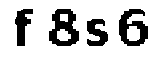6: (116, 4, 151, 49)
8: (46, 5, 82, 50)
f: (8, 5, 35, 50)
s: (83, 14, 113, 50)
